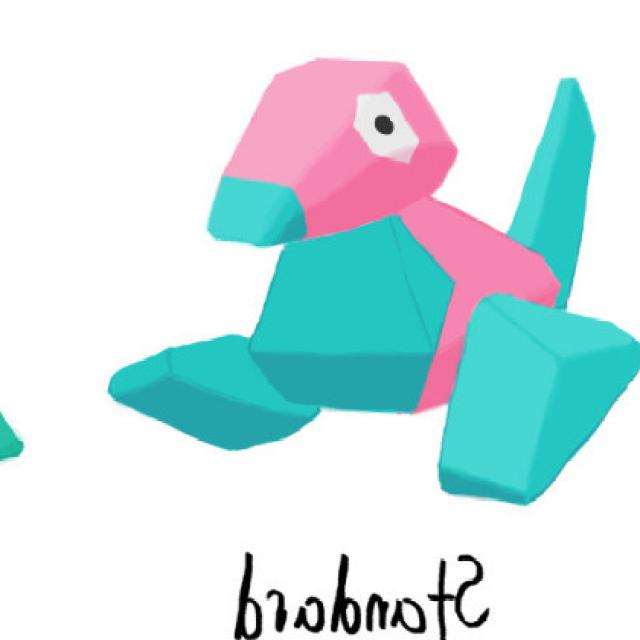Porygon: (110, 55, 613, 504)
